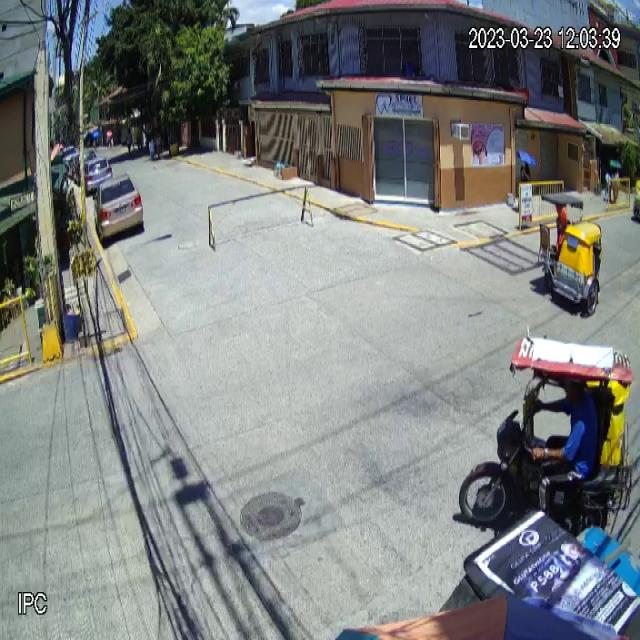Car: (93, 172, 144, 244)
Tricycle: (459, 336, 638, 526), (537, 193, 603, 317)
